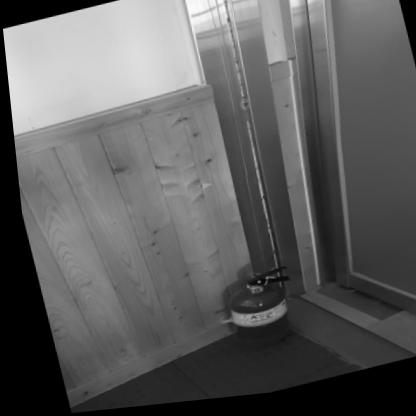FE: (213, 269, 296, 356)
